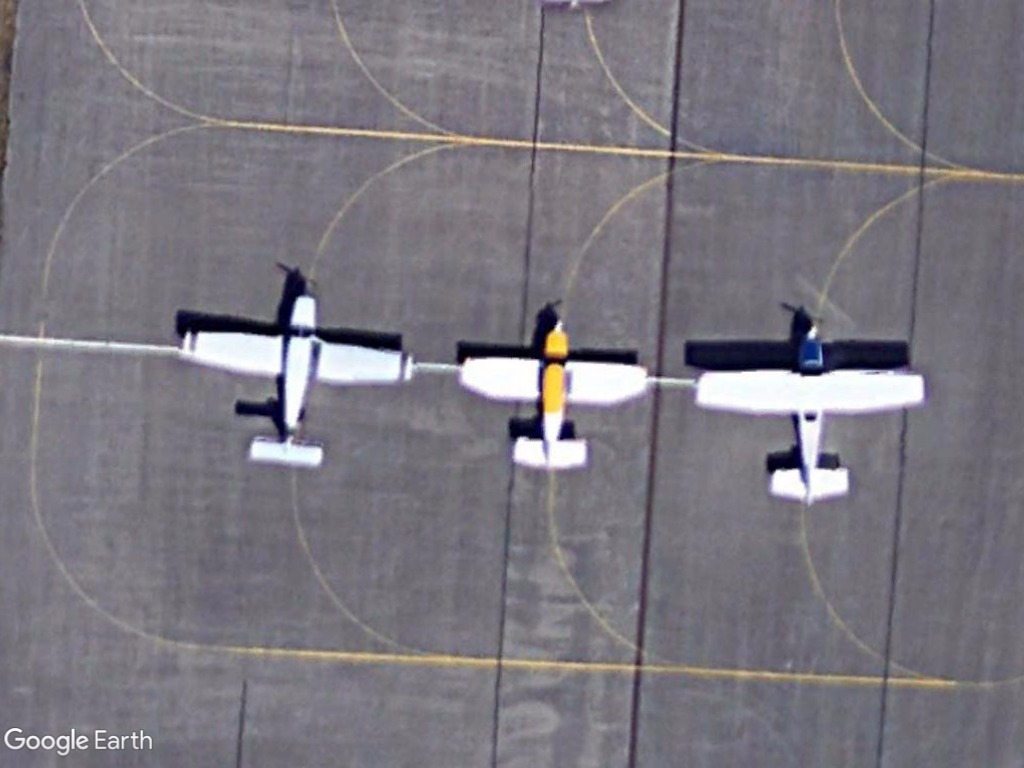trainer: (695, 312, 928, 521), (170, 288, 421, 478), (453, 310, 654, 477)
